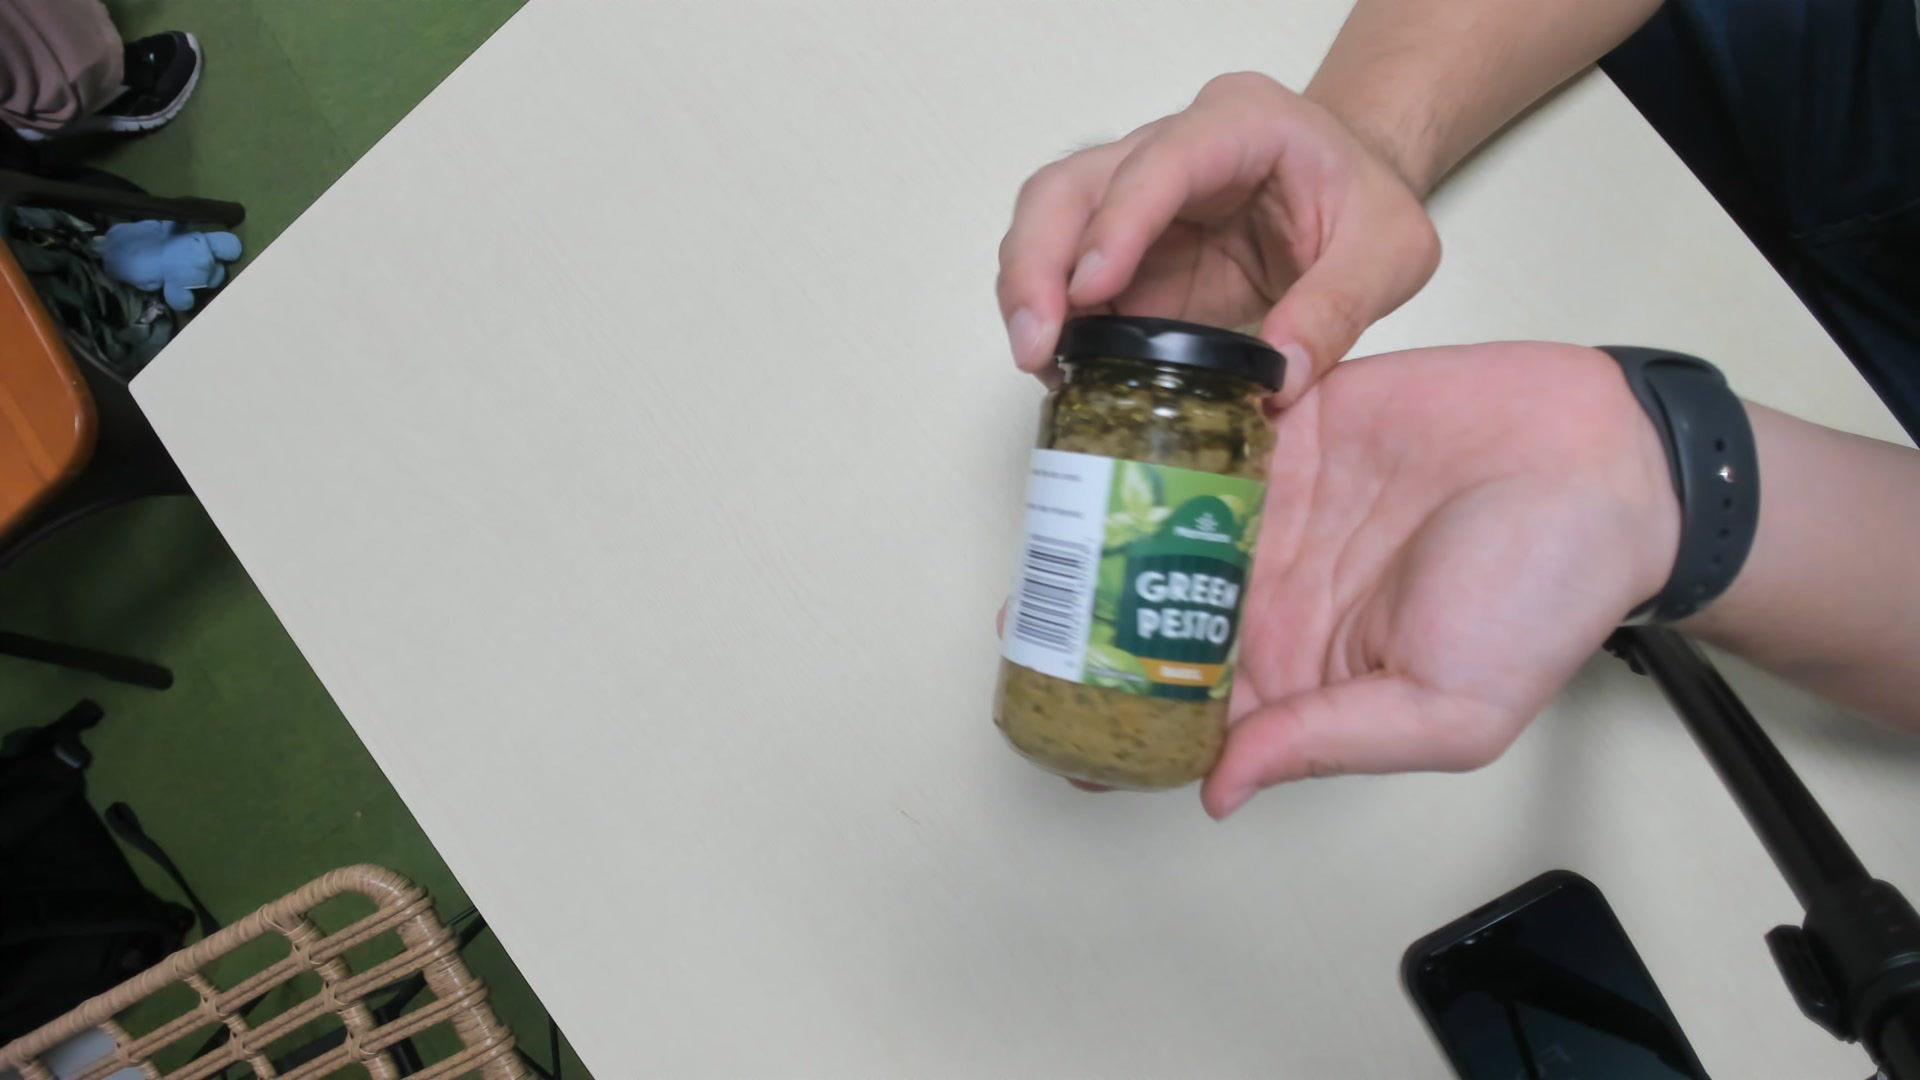OtherSauceDressing_100-199g_NonHalal_NonHealthy: (1002, 318, 1284, 791)
